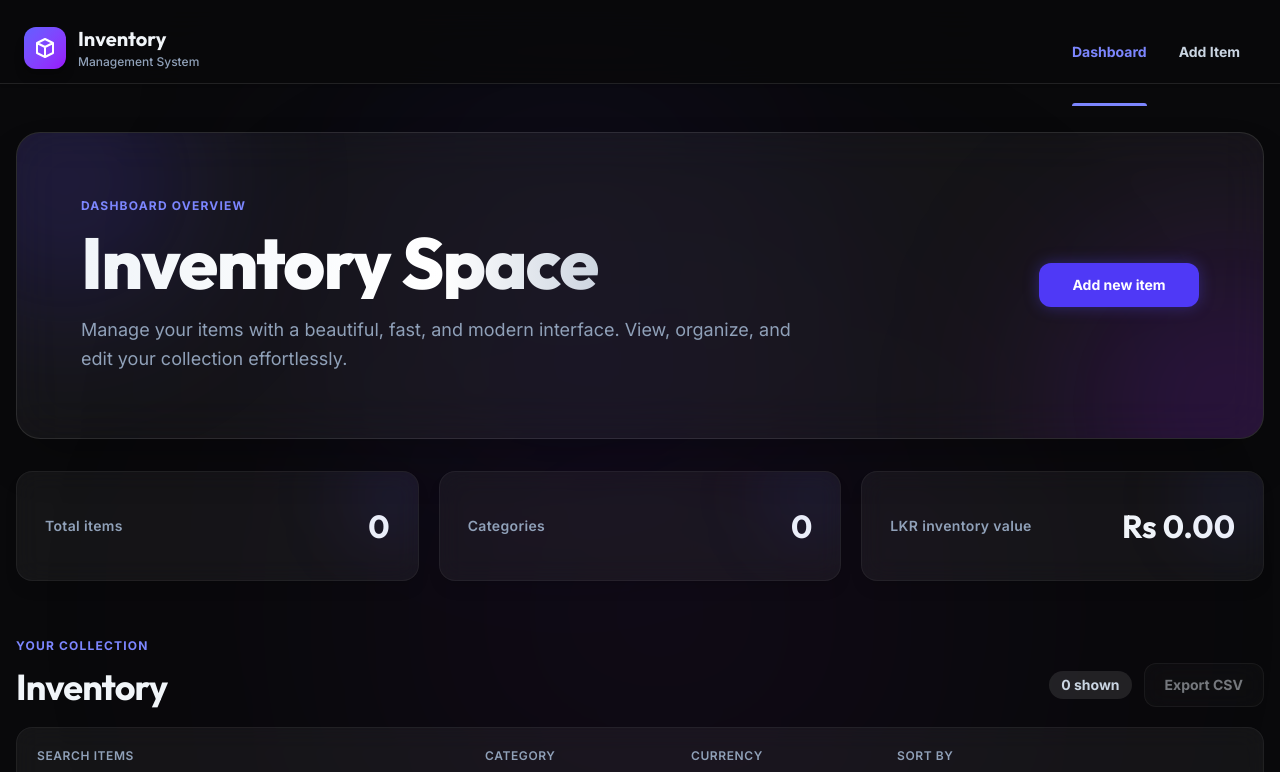
App › navigates to the add item form
Click the button "Add Item". click: (1209, 52)
box: [1163, 20, 1256, 83]
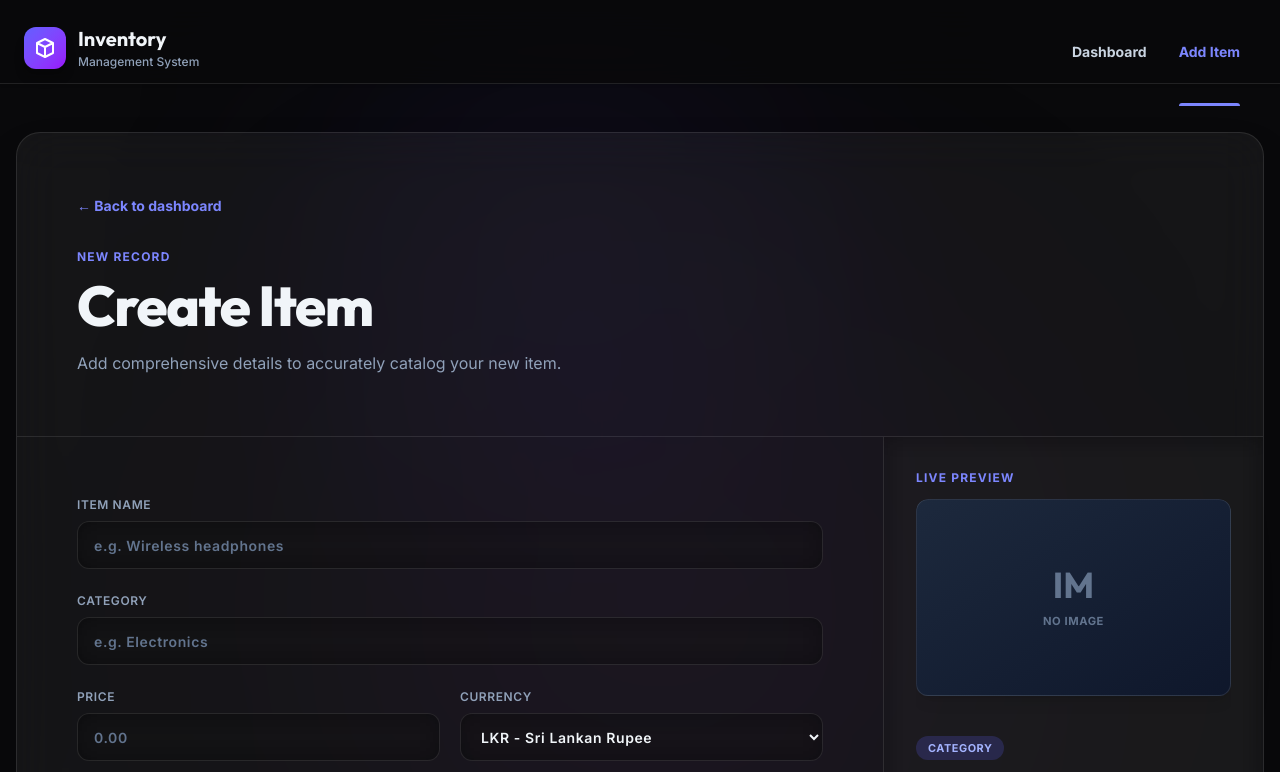
Expected: the heading "Create Item" is shown, [77, 270, 372, 341]
Expected: the field labelled "Item name" is shown, [77, 521, 823, 569]
